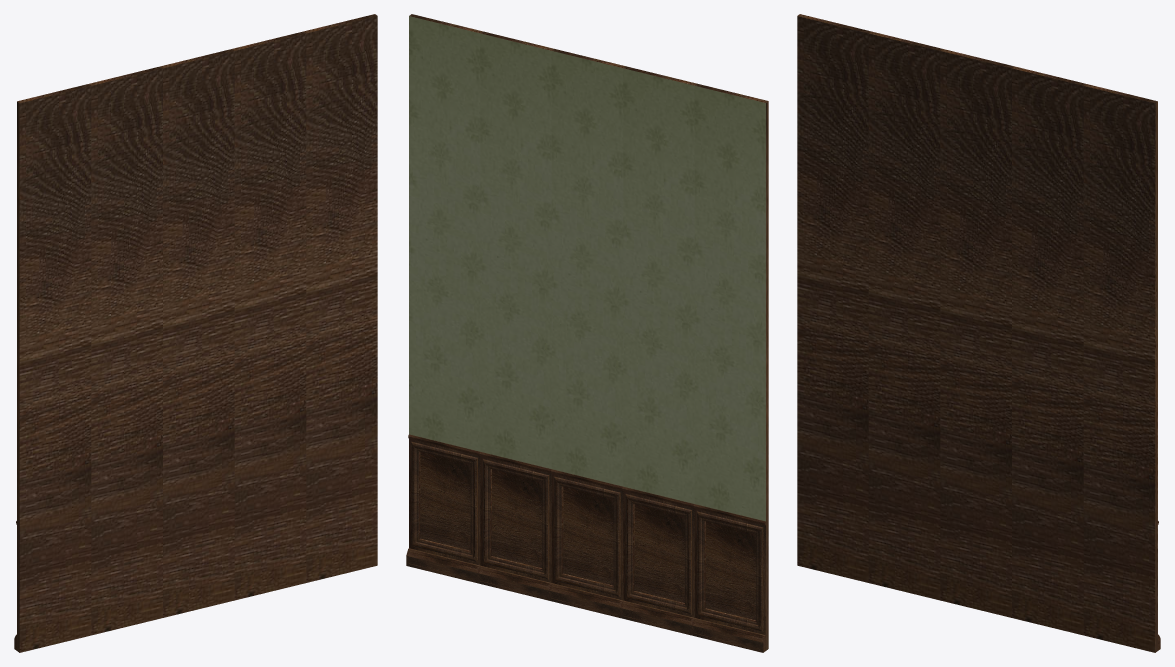
The model's file is Mur_V1_5X.fbx.
3 views of the same model, side by side, from view 1: azimuth 30°, elevation 25°; view 2: azimuth 150°, elevation 25°; view 3: azimuth 330°, elevation 25° (orthographic).
Parts seen in each view (by area): view 1: Cube; view 2: Cube; view 3: Cube.
Boxes of the visible parts, <box> form: Cube: <box>14,14,377,652</box>; Cube: <box>406,14,768,652</box>; Cube: <box>797,14,1160,652</box>.
Size of the model in its own units: 750 by 1100 by 20.
